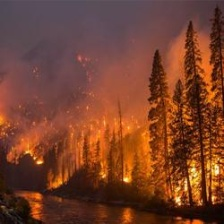fire: (175, 160, 224, 208), (24, 146, 46, 166), (119, 172, 133, 185)
